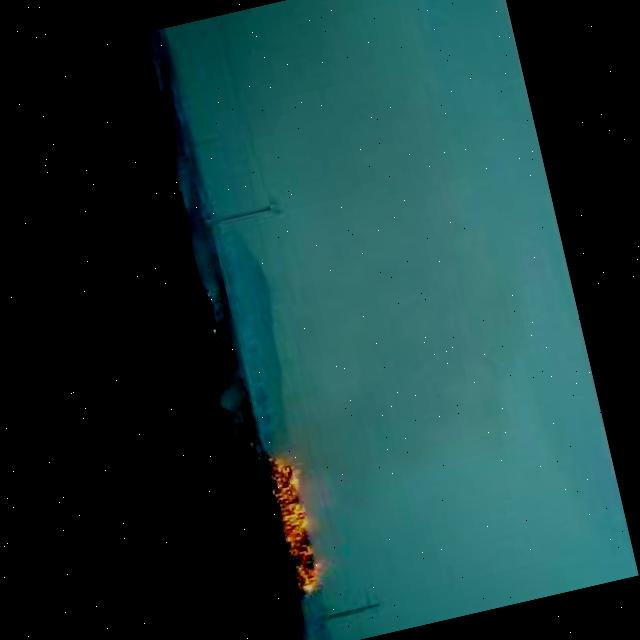fire: (262, 452, 331, 596)
